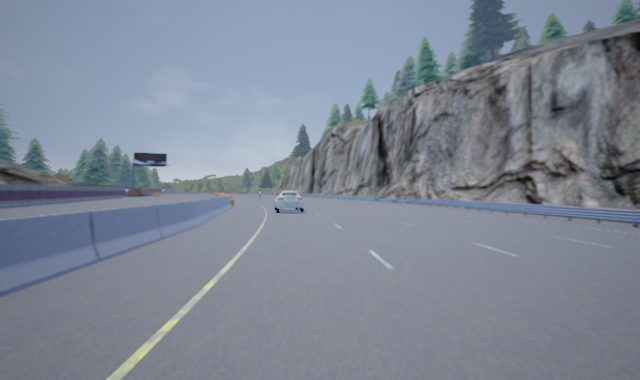vehicle: (273, 190, 305, 213)
